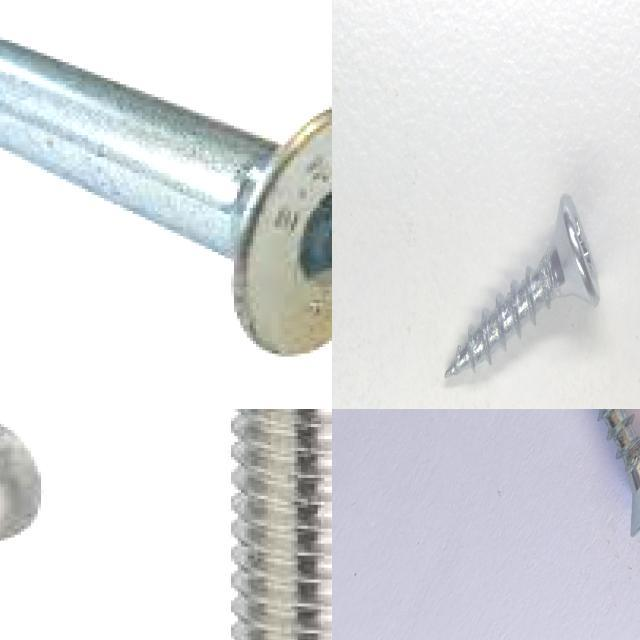Screw: (0, 36, 332, 360), (444, 192, 600, 376), (230, 409, 332, 640), (598, 409, 640, 535)
